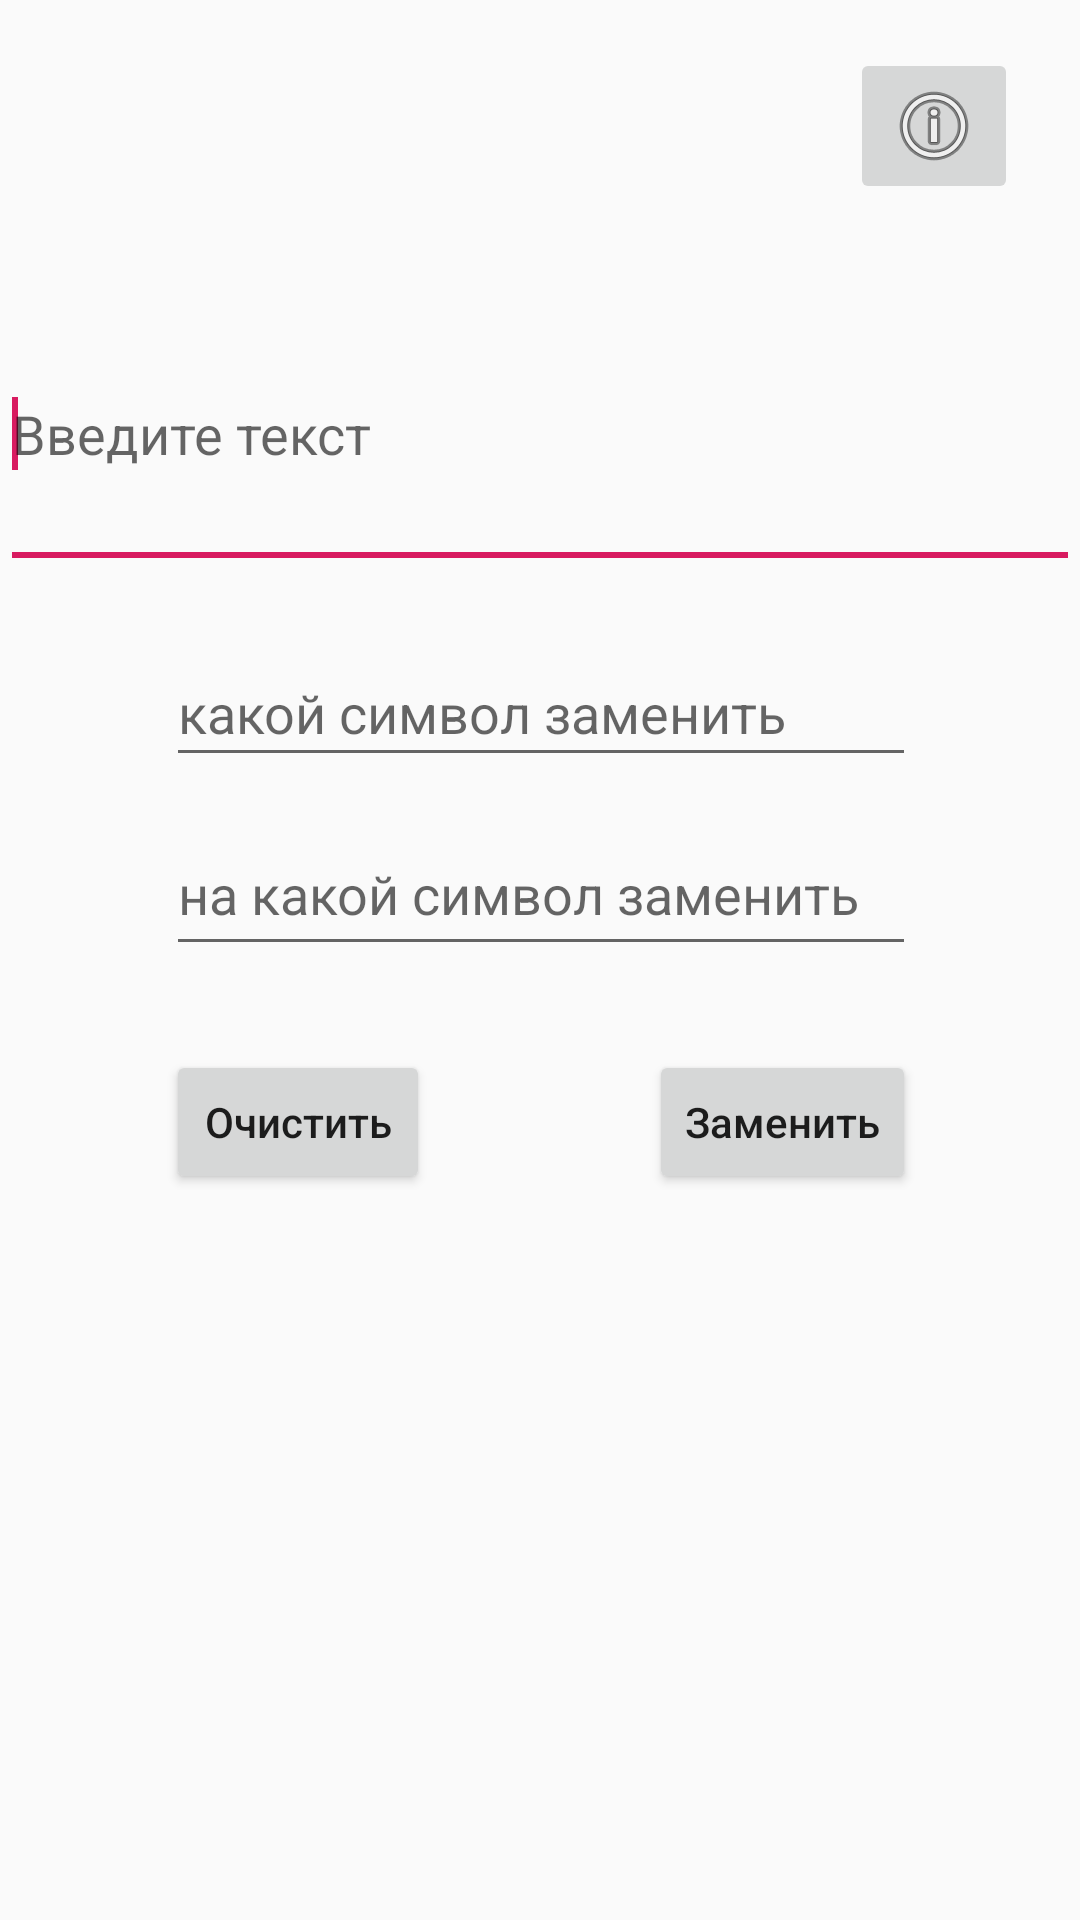

Icon bounding boxes for this 1080*1920 phone screenshot, format (x1, y1, x2, y2):
info details: (862, 66, 1006, 186)
